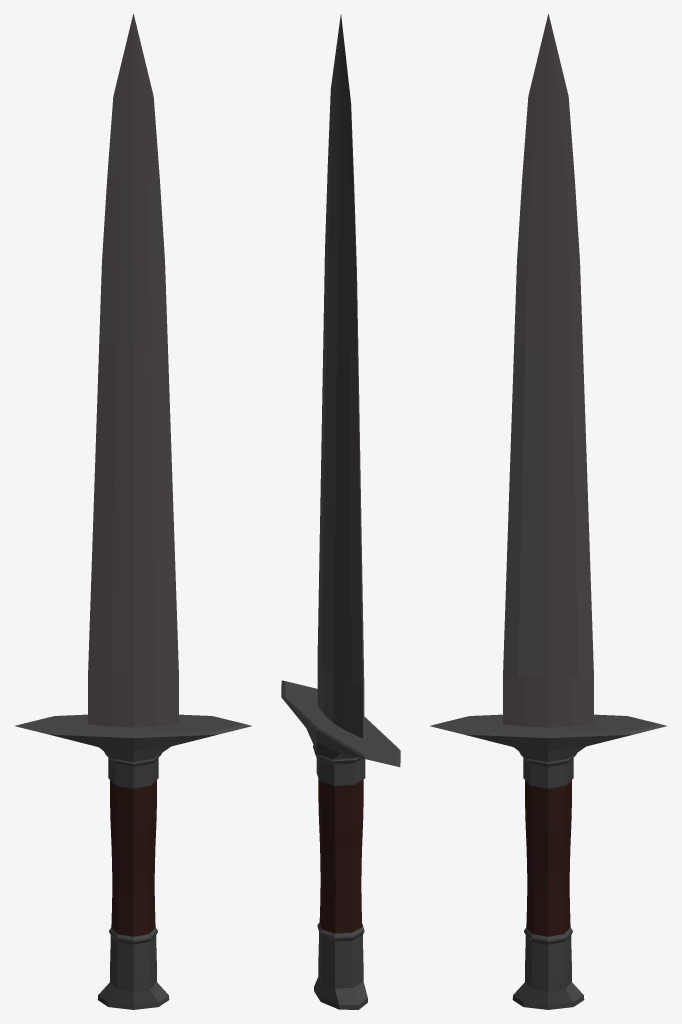
Rendered from Ant sword 1.fbx.
3 renders of one model, left to right at view 1: azimuth 90°, elevation 25°; view 2: azimuth 210°, elevation 25°; view 3: azimuth 270°, elevation 25°, orthographic.
Visible parts, largest first — view 1: Cylinder.001; view 2: Cylinder.001; view 3: Cylinder.001.
Part boxes in pixels (x1,y1,x2,y2): Cylinder.001: [15, 14, 251, 1009]; Cylinder.001: [281, 14, 400, 1009]; Cylinder.001: [430, 14, 666, 1009].
Size of the model in its own units: 249 by 4617 by 1013.
